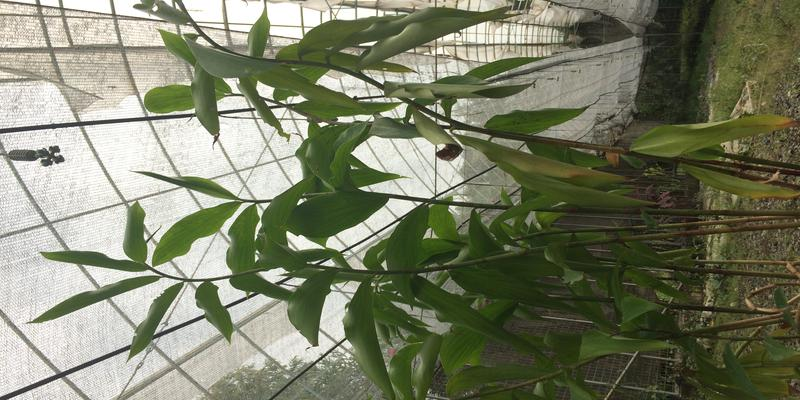Insulin: (92, 64, 729, 374)
